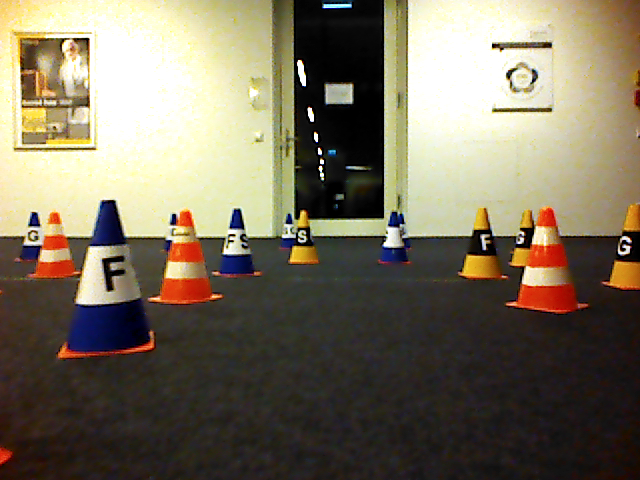bluecone: (56, 198, 153, 361), (210, 207, 265, 279), (377, 211, 414, 266)
orangeconesmall: (154, 207, 220, 306), (37, 211, 81, 280)
